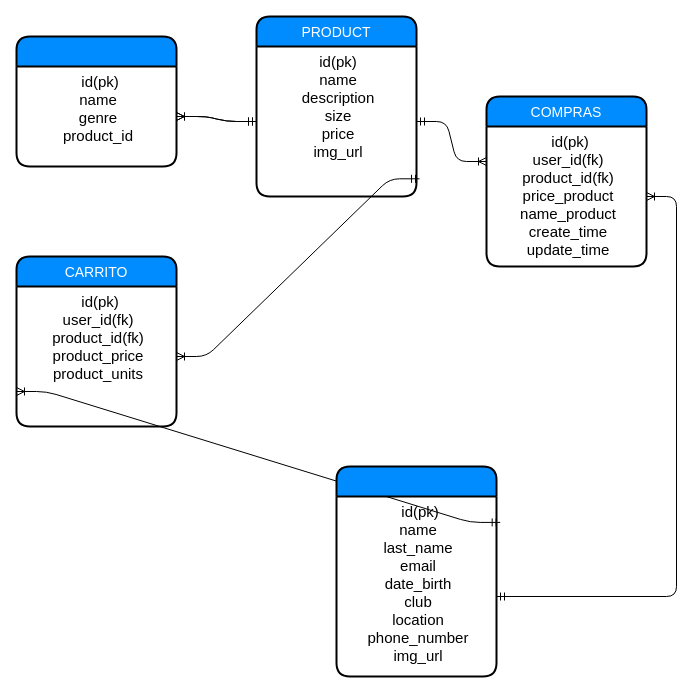
Image size: 693x693. Some labels were removed from this diagram. Each missing label, with the box of its shape:
CATEGORY: (15, 35, 177, 167)
USERS: (335, 465, 497, 677)
